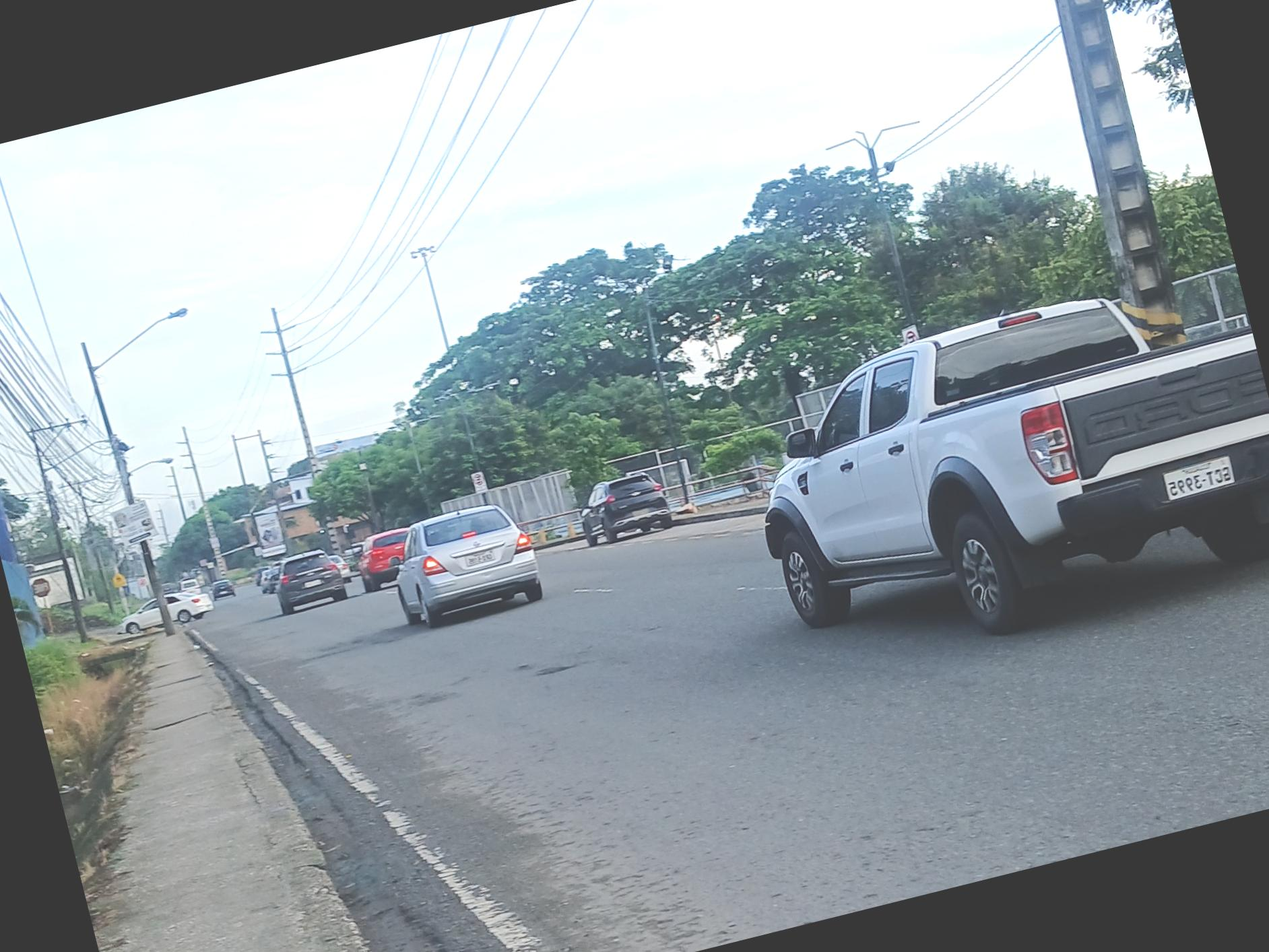license_plate: (1163, 456, 1234, 501), (466, 551, 495, 567), (304, 578, 321, 588)
